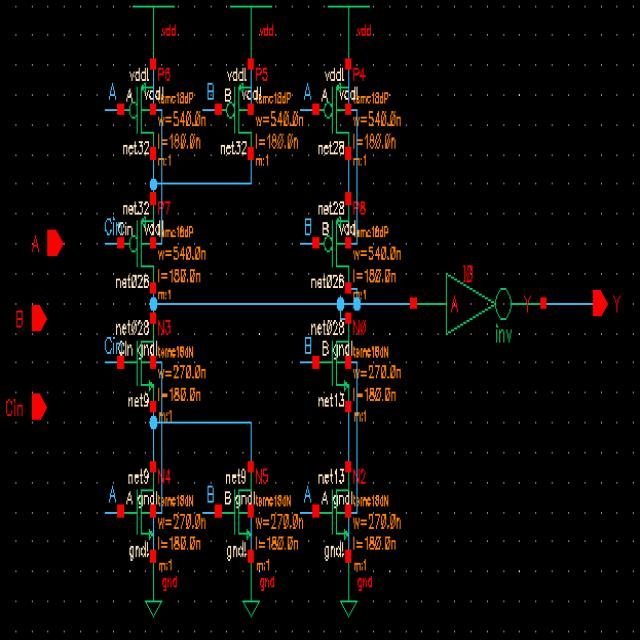inverter: (409, 264, 548, 356)
nmos: (313, 314, 353, 414), (314, 462, 353, 564), (117, 314, 157, 412), (120, 460, 157, 564), (217, 460, 254, 562)
pmos: (213, 58, 254, 159), (314, 58, 351, 162), (118, 60, 157, 158), (118, 191, 157, 289), (313, 194, 352, 291)
